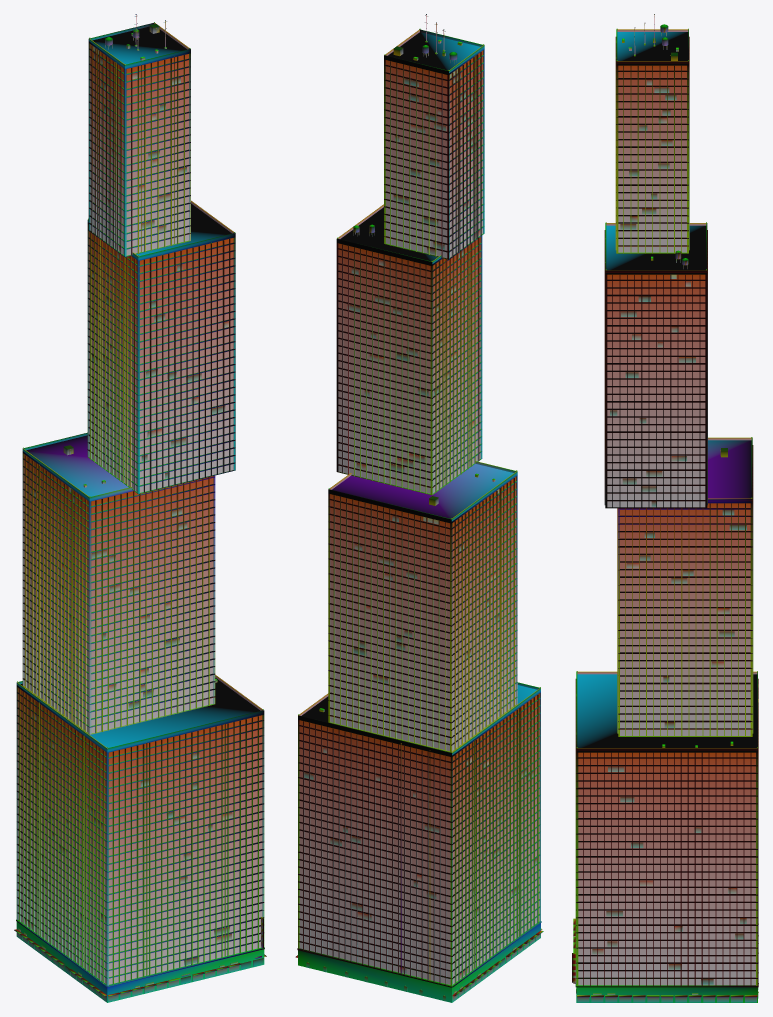
The model's file is Tower_Stepped_V7.fbx.
The picture shows the model from 3 angles, left to right: view 1: azimuth 30°, elevation 25°; view 2: azimuth 150°, elevation 25°; view 3: azimuth 270°, elevation 25°; orthographic projection.
Visible parts, largest first — view 1: Tower_Stepped_V7_LOD0; view 2: Tower_Stepped_V7_LOD0; view 3: Tower_Stepped_V7_LOD0.
Part boxes in pixels (x1,y1,x2,y2): Tower_Stepped_V7_LOD0: (14,14,266,1002); Tower_Stepped_V7_LOD0: (295,14,543,1002); Tower_Stepped_V7_LOD0: (572,14,758,1002).
Size of what is drawn, in the model's own units: 80.8 by 448 by 80.28.
